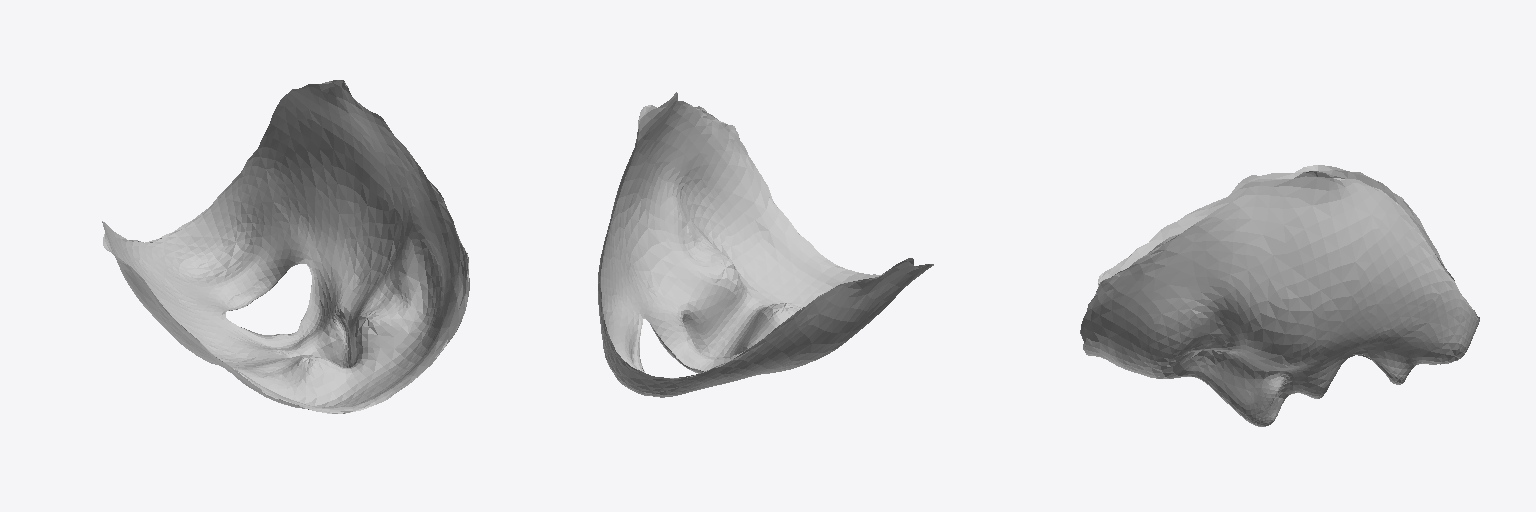
File: face_gab_sfm66.obj
3 renders of one model, left to right at view 1: azimuth 30°, elevation 25°; view 2: azimuth 150°, elevation 25°; view 3: azimuth 270°, elevation 25°, orthographic.
Bounding box in the file's own units: 167 × 164 × 218.